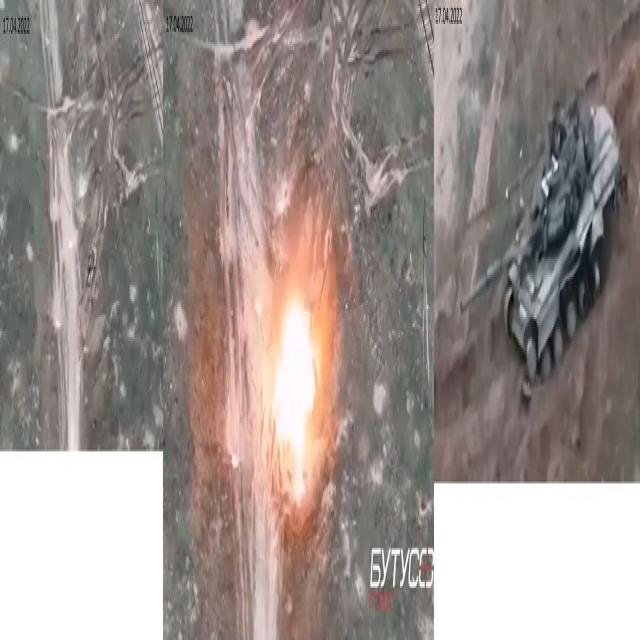tank: (503, 95, 628, 386), (86, 246, 97, 288)
